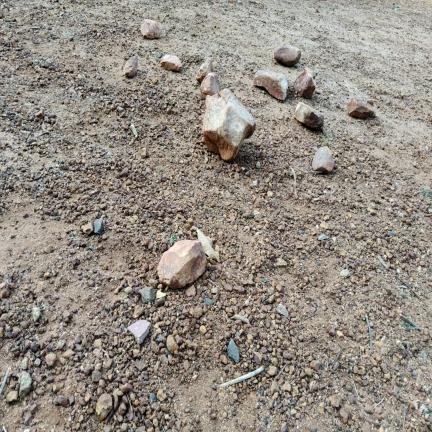Rocks: (203, 89, 255, 161), (158, 241, 206, 288), (253, 70, 288, 100), (295, 103, 323, 128), (293, 68, 315, 98), (312, 146, 334, 172), (348, 97, 374, 118), (128, 320, 150, 344), (275, 46, 301, 66), (201, 72, 220, 98), (96, 394, 112, 420), (197, 59, 213, 82), (141, 20, 159, 38), (161, 55, 181, 71), (20, 372, 31, 398), (139, 287, 156, 303), (228, 339, 239, 363), (124, 57, 137, 77), (167, 335, 178, 354), (45, 352, 56, 368), (277, 304, 289, 318), (190, 306, 203, 318), (329, 394, 340, 408), (6, 391, 18, 403), (185, 340, 197, 352), (133, 305, 144, 318), (340, 409, 349, 424), (0, 283, 9, 298), (94, 219, 103, 234), (82, 222, 93, 234), (57, 395, 68, 407), (91, 370, 102, 382), (252, 351, 262, 364), (310, 360, 321, 371), (157, 389, 167, 401), (33, 307, 41, 322), (185, 286, 196, 296), (43, 244, 54, 254), (24, 413, 33, 425), (271, 381, 279, 394), (281, 382, 291, 392), (340, 269, 351, 278), (64, 349, 75, 358), (276, 258, 287, 267), (30, 403, 38, 415), (45, 58, 54, 68), (268, 366, 277, 376), (204, 298, 213, 307), (365, 406, 374, 414), (199, 326, 207, 335), (361, 423, 370, 431), (149, 393, 157, 402), (184, 360, 190, 371), (318, 234, 328, 240), (280, 423, 287, 431), (310, 425, 318, 431)
